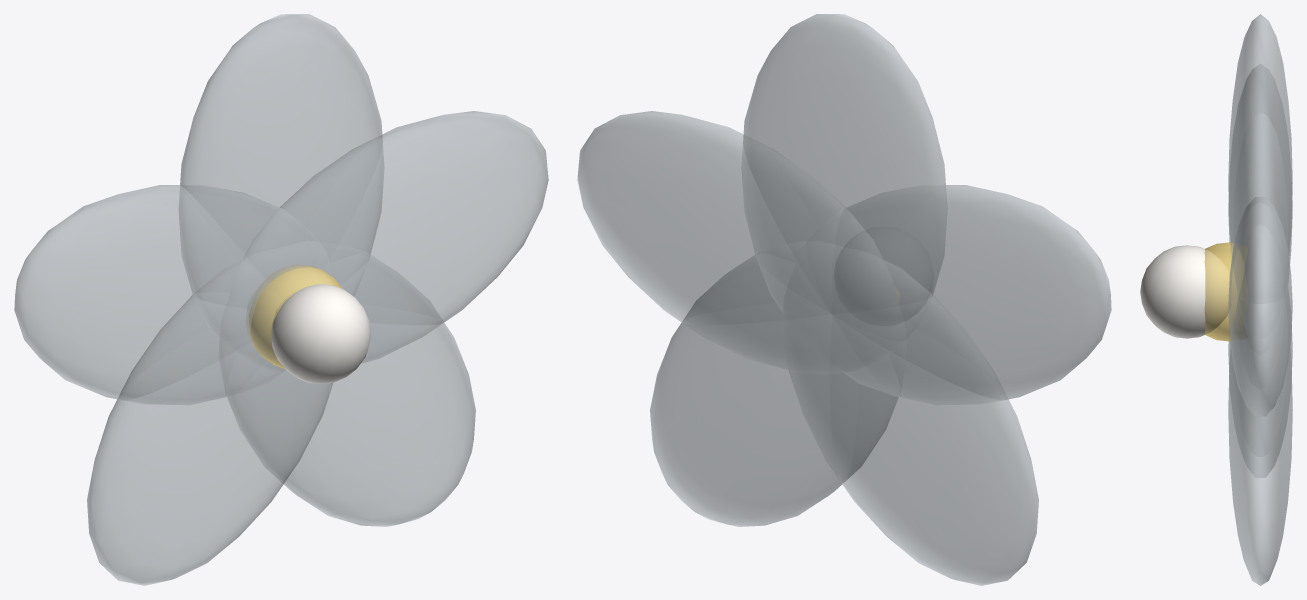
The model's file is dimensional-kit.web.glb.
3 renders of one model, left to right at view 1: azimuth 30°, elevation 25°; view 2: azimuth 150°, elevation 25°; view 3: azimuth 270°, elevation 25°, orthographic. The views are drawn at different scales.
Visible parts, largest first — view 1: glass-flower-pearl-01, glass-flower-pearl-00, glass-flower-pearl-02, glass-flower-pearl-04, glass-flower-pearl-03, glass-flower-pearl-06, glass-flower-pearl-05; view 2: glass-flower-pearl-01, glass-flower-pearl-00, glass-flower-pearl-02, glass-flower-pearl-04, glass-flower-pearl-03; view 3: glass-flower-pearl-00, glass-flower-pearl-03, glass-flower-pearl-04, glass-flower-pearl-01, glass-flower-pearl-06, glass-flower-pearl-02, glass-flower-pearl-05.
Part boxes in pixels (box(x1,y1,x2,y2)): glass-flower-pearl-01: box(14, 185, 318, 404); glass-flower-pearl-00: box(178, 14, 384, 338); glass-flower-pearl-02: box(87, 260, 332, 585); glass-flower-pearl-04: box(243, 111, 548, 372); glass-flower-pearl-03: box(219, 242, 475, 526); glass-flower-pearl-06: box(271, 284, 371, 383); glass-flower-pearl-05: box(246, 265, 342, 368); glass-flower-pearl-01: box(807, 185, 1111, 404); glass-flower-pearl-00: box(741, 14, 947, 338); glass-flower-pearl-02: box(782, 260, 1038, 585); glass-flower-pearl-04: box(577, 111, 882, 374); glass-flower-pearl-03: box(650, 242, 906, 526); glass-flower-pearl-00: box(1228, 14, 1292, 303); glass-flower-pearl-03: box(1228, 289, 1292, 585); glass-flower-pearl-04: box(1228, 197, 1292, 416); glass-flower-pearl-01: box(1228, 64, 1292, 283); glass-flower-pearl-06: box(1140, 245, 1229, 338); glass-flower-pearl-02: box(1228, 287, 1292, 477); glass-flower-pearl-05: box(1204, 242, 1244, 341).
Bounding box in the file's own units: 3.92 × 3.77 × 1.04.
